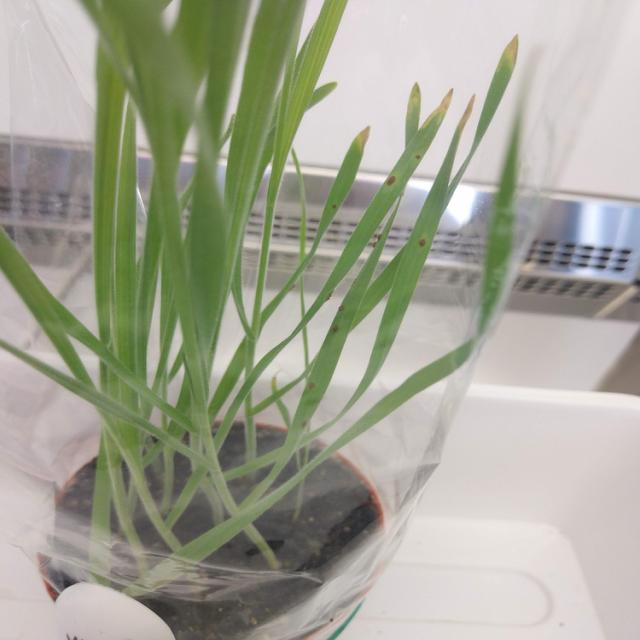wheat-stemrust: (320, 299, 359, 346), (368, 230, 386, 249), (382, 174, 401, 191), (296, 416, 309, 433), (307, 379, 321, 391), (417, 235, 429, 248), (412, 154, 422, 162)
